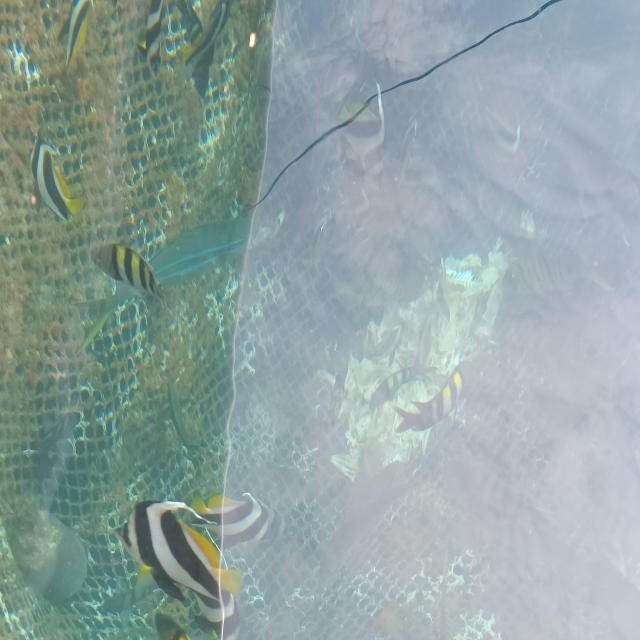ikan: (113, 498, 243, 638), (188, 491, 280, 552), (91, 242, 168, 309), (391, 364, 464, 434), (29, 137, 83, 222), (367, 363, 439, 411), (56, 0, 93, 68)
